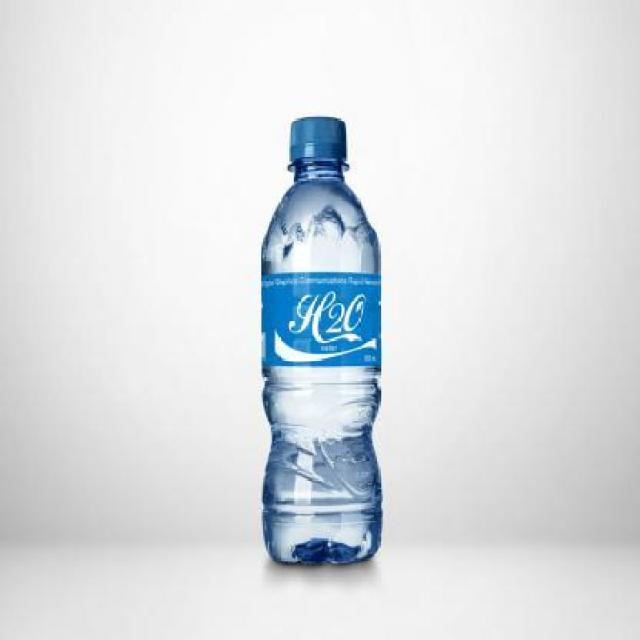bottle: (245, 95, 393, 590)
